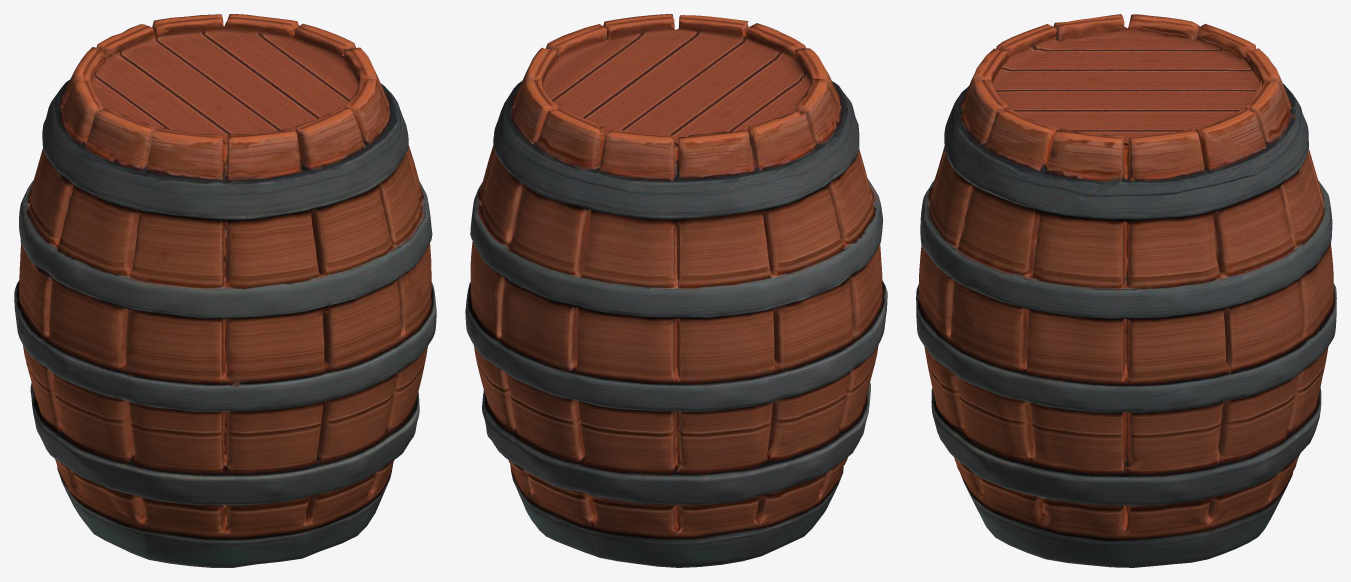
Rendered from barrel.glb.
The picture shows the model from 3 angles, left to right: view 1: azimuth 30°, elevation 25°; view 2: azimuth 150°, elevation 25°; view 3: azimuth 270°, elevation 25°; orthographic projection.
Size of the model in its own units: 1.78 by 2 by 1.78.
1 material, 1 textured.
